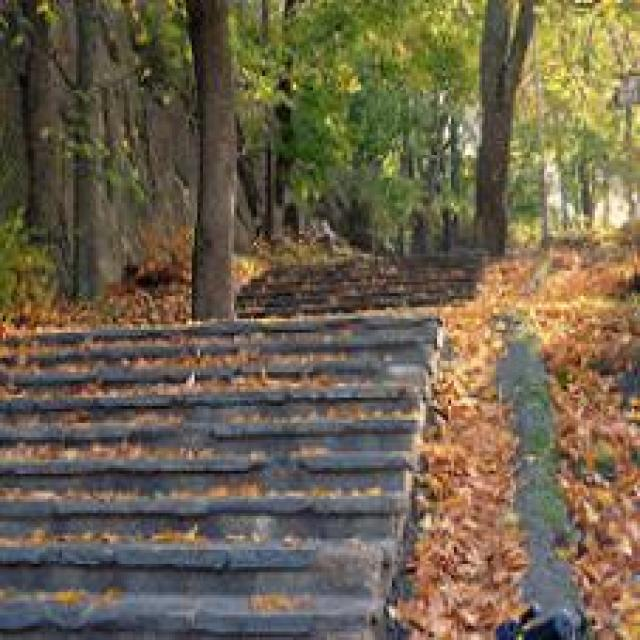upstair: (10, 320, 419, 621)
